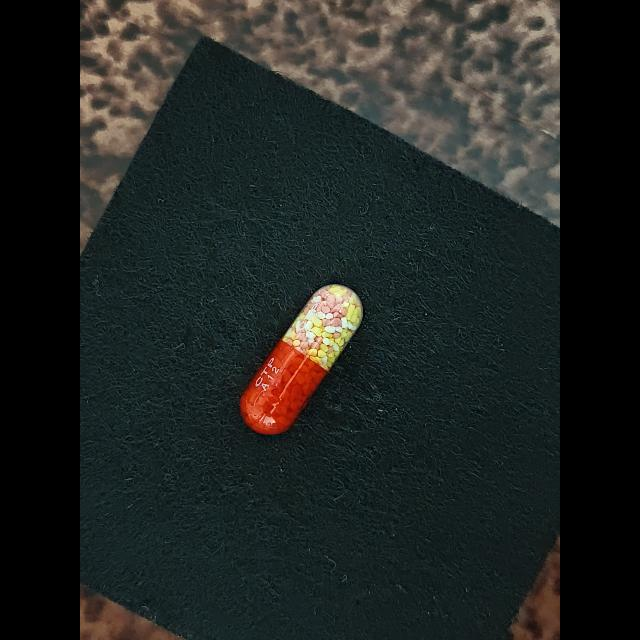Intact Capsule: (240, 284, 363, 434)
